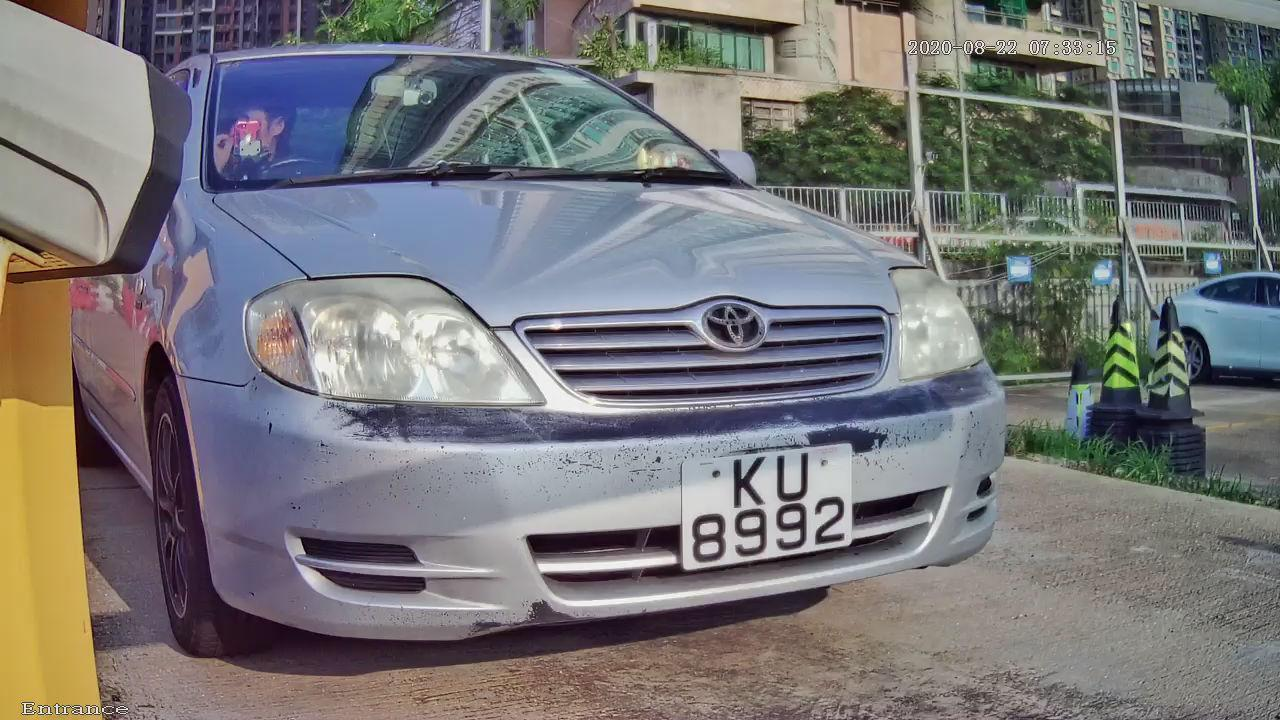Car: (12, 7, 1115, 692)
License Plate: (663, 431, 863, 582)
